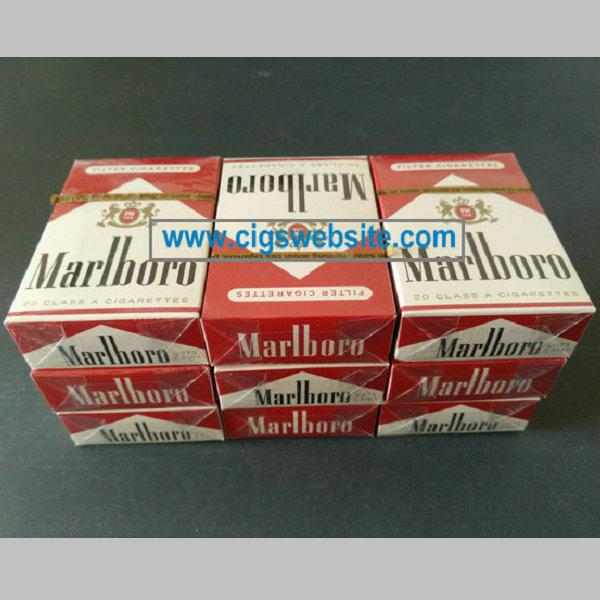marlboro_red: (32, 159, 207, 324), (394, 154, 571, 317), (217, 159, 374, 319)
